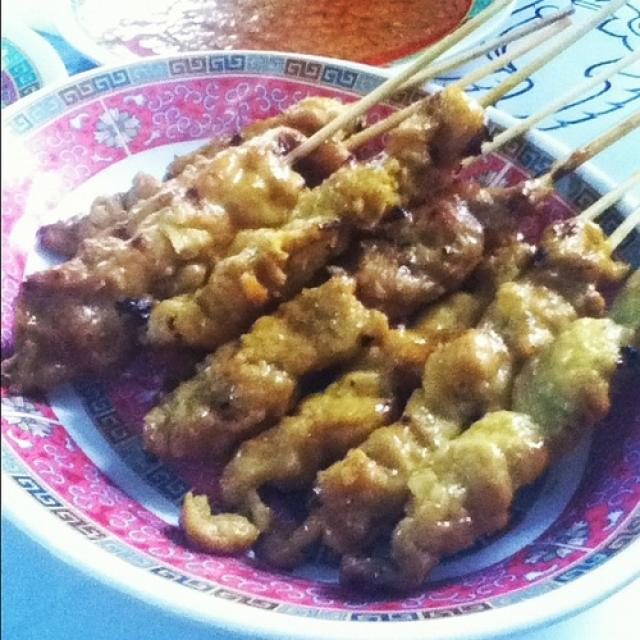牛肉菜式: (18, 39, 616, 596)
